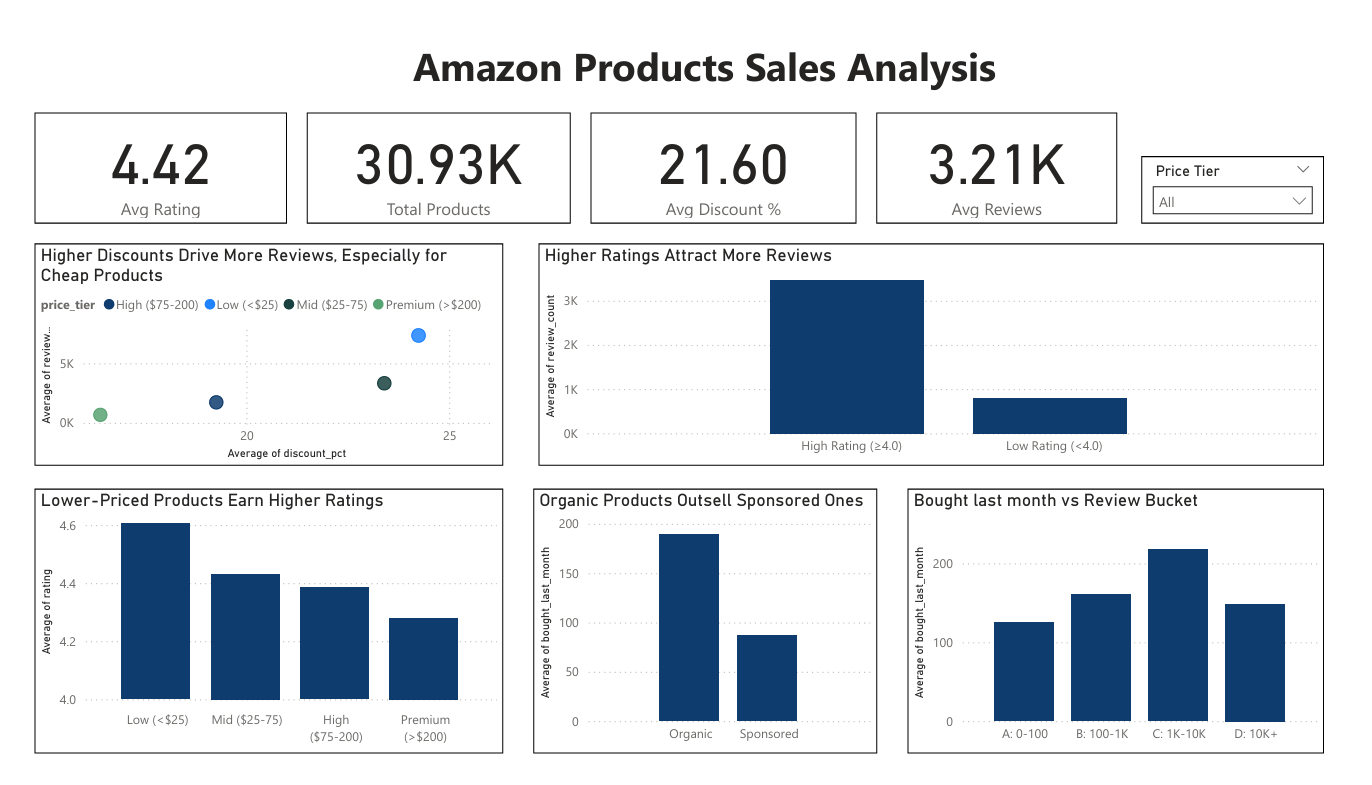

Layout of this report page (visuals, bound fields, positions):
{"tool":"powerbi","page":{"name":"Page 1","canvas":[1280,720],"ordinal":0},"visuals":[{"type":"scatterChart","title":"Higher Discounts Drive More Reviews, Especially for Cheap Products","fields":{"X":["Avg(amazon_analysis_powerbi.discount_pct)"],"Y":["Avg(amazon_analysis_powerbi.review_count)"],"Series":["amazon_analysis_powerbi.price_tier"],"Size":["Avg(amazon_analysis_powerbi.rating)"]},"box":[14.9,216.4,451.6,214],"z":0},{"type":"clusteredColumnChart","title":"Higher Ratings Attract More Reviews","fields":{"Y":["Avg(amazon_analysis_powerbi.review_count)"],"Category":["amazon_analysis_powerbi.high_rating"]},"box":[500.1,216.4,756.3,214],"z":1000},{"type":"clusteredColumnChart","title":"Lower-Priced Products Earn Higher Ratings","fields":{"Category":["amazon_analysis_powerbi.price_tier"],"Y":["Avg(amazon_analysis_powerbi.rating)"]},"box":[14.9,451.6,451.6,255],"z":2000},{"type":"clusteredColumnChart","title":"Organic Products Outsell Sponsored Ones","fields":{"Category":["amazon_analysis_powerbi.is_sponsored"],"Y":["Avg(amazon_analysis_powerbi.bought_last_month)"]},"box":[495.1,451.6,330.9,255],"z":3000},{"type":"clusteredColumnChart","title":"Bought last month vs Review Bucket","fields":{"Y":["Avg(amazon_analysis_powerbi.bought_last_month)"],"Category":["amazon_analysis_powerbi.review_bucket"]},"box":[854.6,451.6,401.8,255],"z":4000},{"type":"card","fields":{"Values":["Avg(amazon_analysis_powerbi.rating)"]},"box":[15.1,89.5,242.9,107],"z":5000},{"type":"card","fields":{"Values":["CountNonNull(amazon_analysis_powerbi.has_coupon)"]},"box":[276.9,89.6,253.8,107],"z":6000},{"type":"card","fields":{"Values":["Avg(amazon_analysis_powerbi.discount_pct)"]},"box":[549.6,89.6,256.3,107],"z":7000},{"type":"card","fields":{"Values":["Avg(amazon_analysis_powerbi.review_count)"]},"box":[824.7,89.6,232.6,107],"z":8000},{"type":"slicer","fields":{"Values":["amazon_analysis_powerbi.price_tier"]},"box":[1079.8,131.9,176.6,64.7],"z":9000},{"type":"textbox","box":[374.4,14.9,576,63.4],"z":10000}]}

Visuals, with their boxes in screenshot pixels (x1, y1, x2, y2), scaled from the page's 1280x720 canvas onto the 1372x785 screenshot:
"Higher Discounts Drive More Reviews, Especially for Cheap Products" scatterChart: <box>16,236,500,469</box>
"Higher Ratings Attract More Reviews" clusteredColumnChart: <box>536,236,1347,469</box>
"Lower-Priced Products Earn Higher Ratings" clusteredColumnChart: <box>16,492,500,770</box>
"Organic Products Outsell Sponsored Ones" clusteredColumnChart: <box>531,492,885,770</box>
"Bought last month vs Review Bucket" clusteredColumnChart: <box>916,492,1347,770</box>
card - Avg(amazon_analysis_powerbi.rating): <box>16,98,277,214</box>
card - CountNonNull(amazon_analysis_powerbi.has_coupon): <box>297,98,569,214</box>
card - Avg(amazon_analysis_powerbi.discount_pct): <box>589,98,864,214</box>
card - Avg(amazon_analysis_powerbi.review_count): <box>884,98,1133,214</box>
slicer - amazon_analysis_powerbi.price_tier: <box>1157,144,1347,214</box>
textbox: <box>401,16,1019,85</box>
